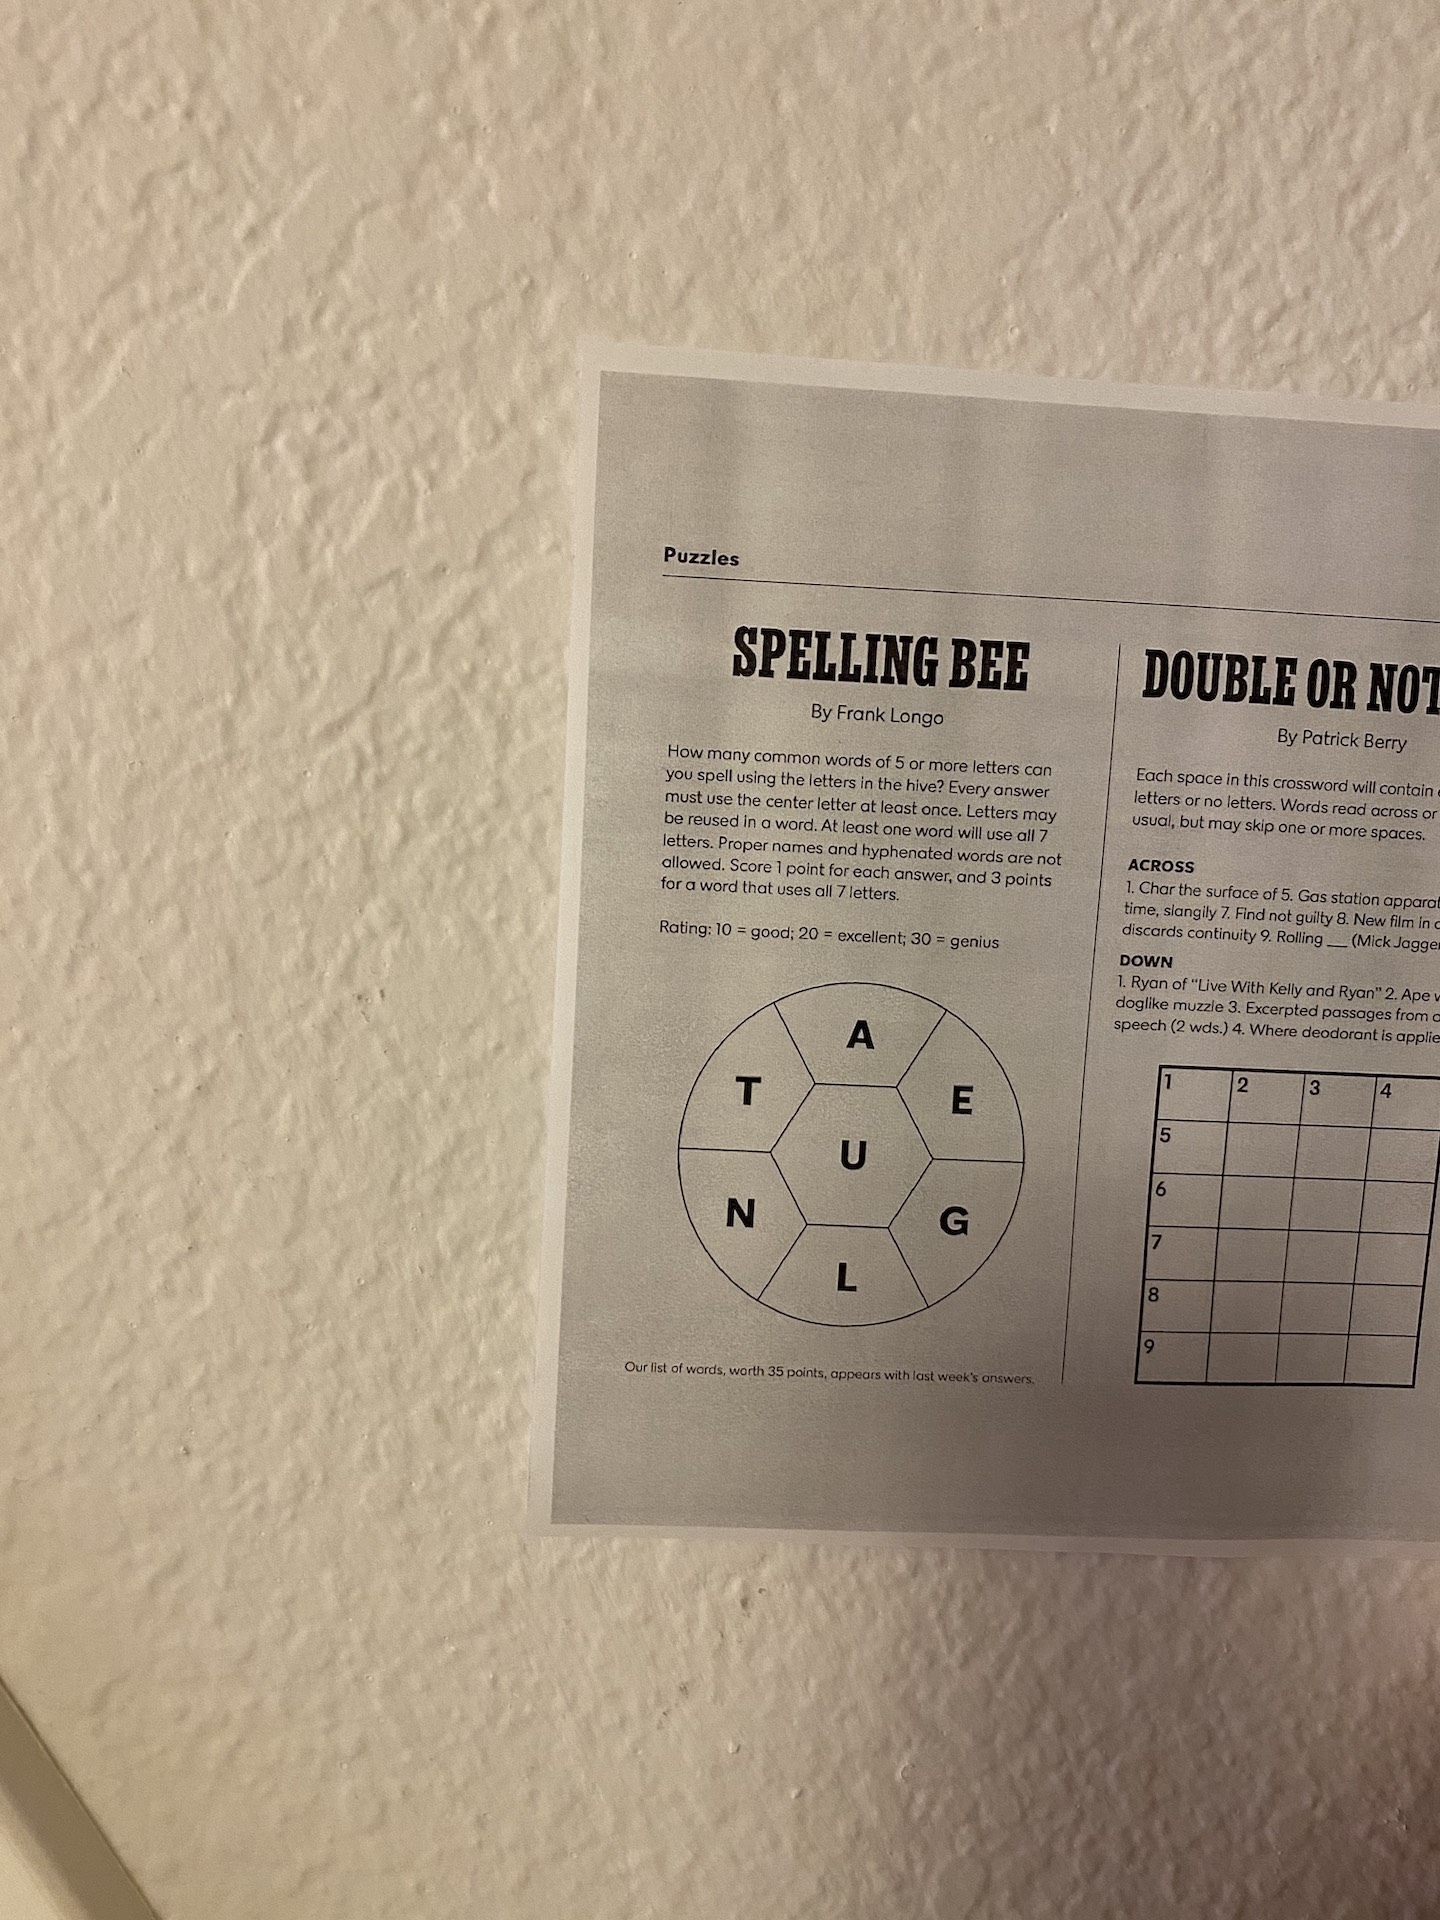Board: (663, 978, 1036, 1344)
